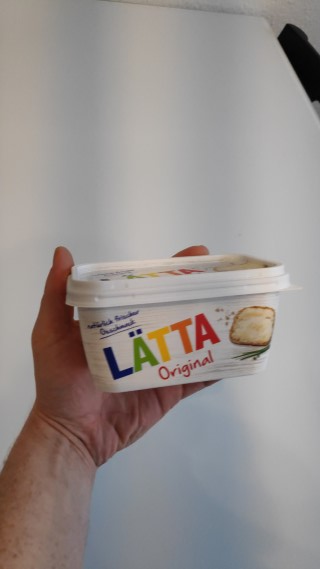laetta: (62, 250, 305, 393)
